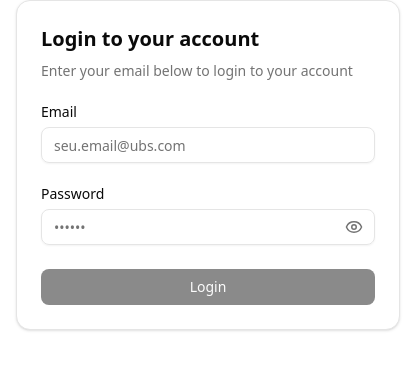
LoginForm › shows password error on blur with empty password
Click the password field labelled "Password".
click(208, 227)  # box [41,209,375,245]
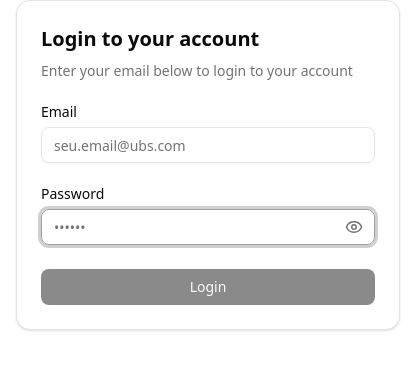
Press Tab
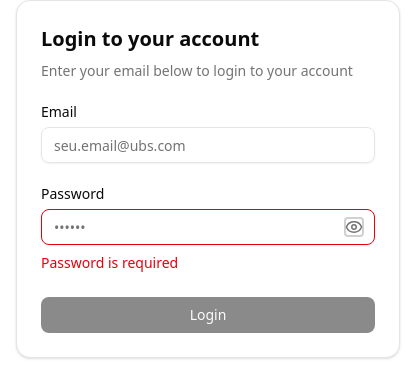
Result: the text "Password is required" is shown at [41,253,178,272]
